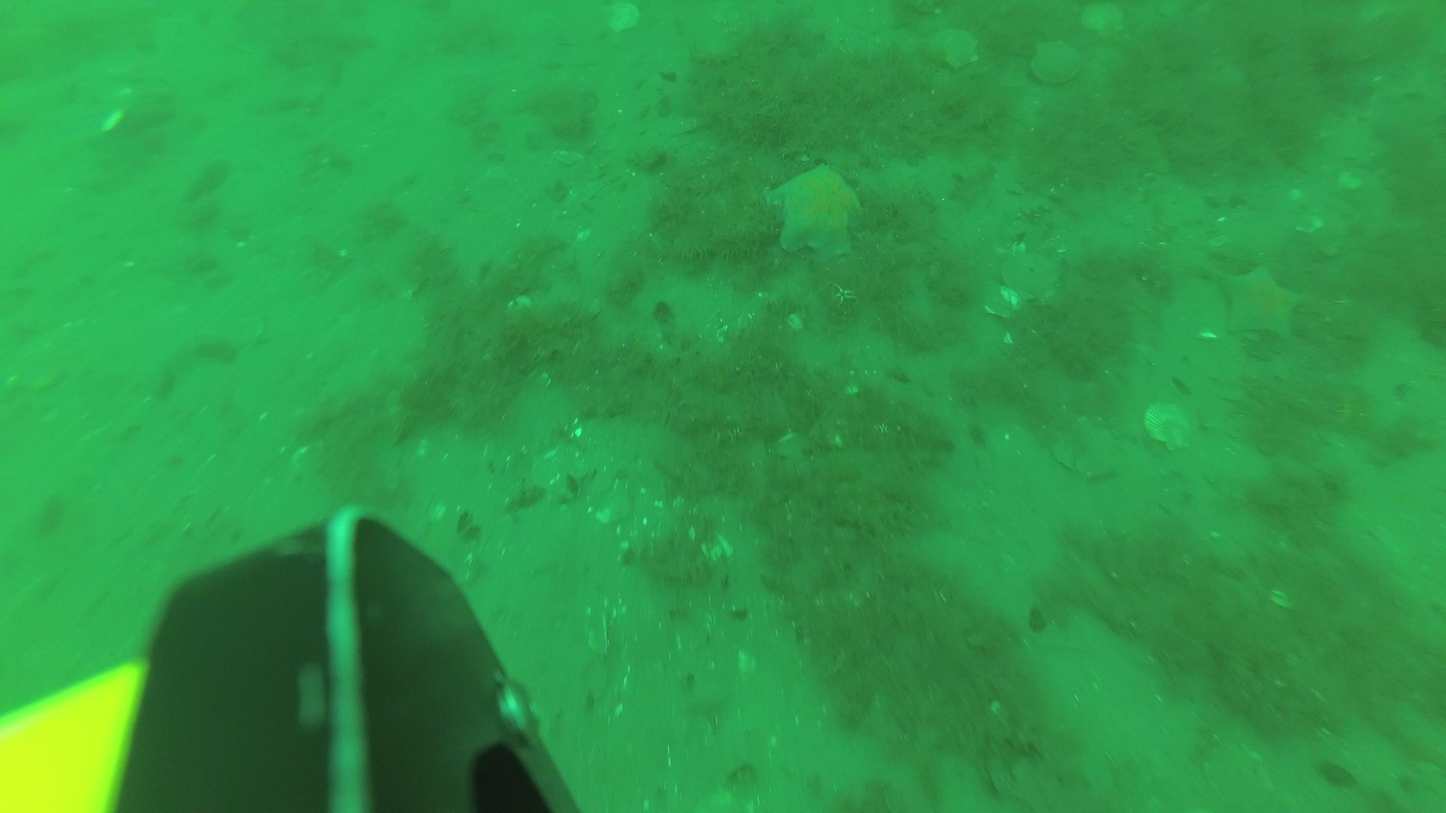holothurian: (769, 161, 863, 262), (1214, 260, 1307, 343)
scallop: (1051, 417, 1125, 483), (998, 248, 1063, 305), (1141, 397, 1199, 454), (1028, 36, 1084, 88), (926, 24, 984, 73), (1076, 4, 1132, 46), (603, 0, 644, 33)
